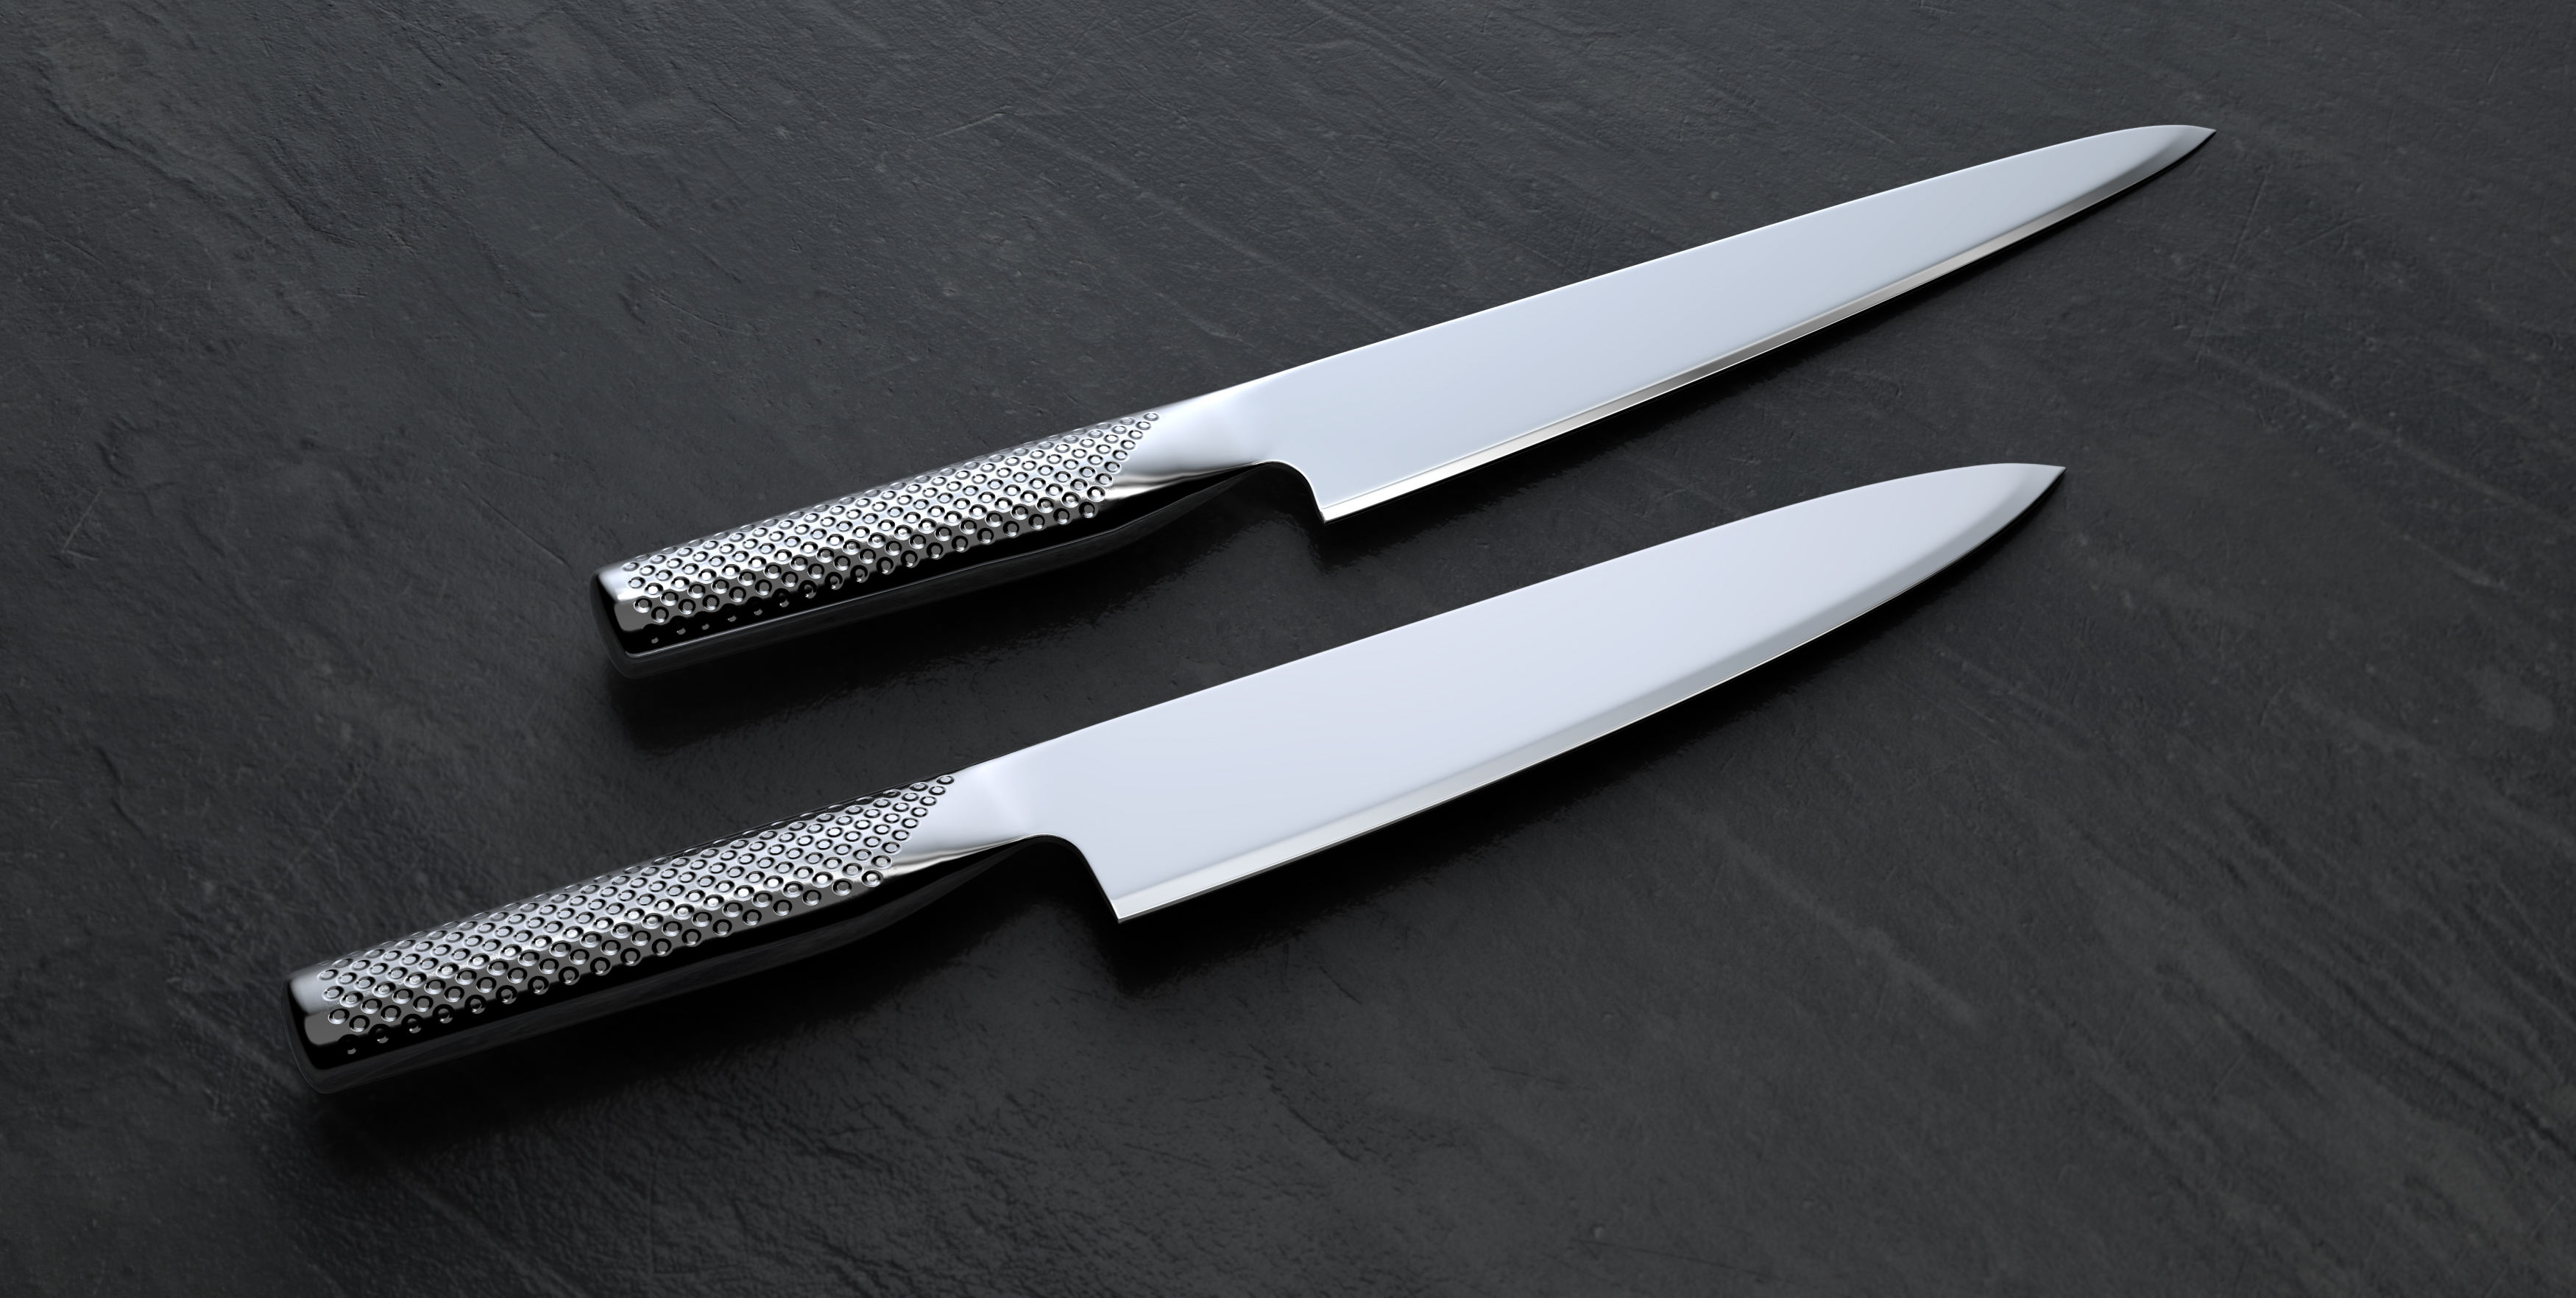knife: (144, 132, 2316, 1134)
